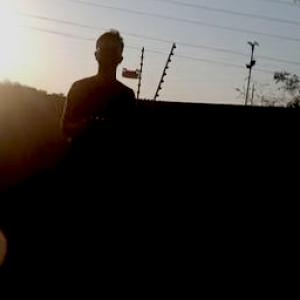follow: (48, 24, 137, 298)
